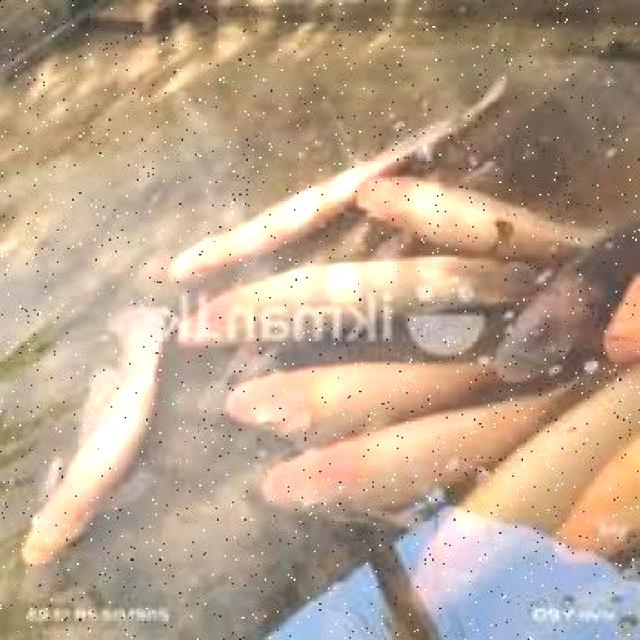gurame: (489, 223, 640, 384)
